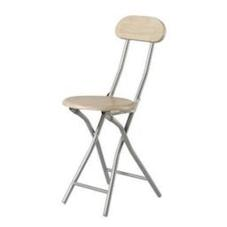chair: (15, 5, 210, 219)
